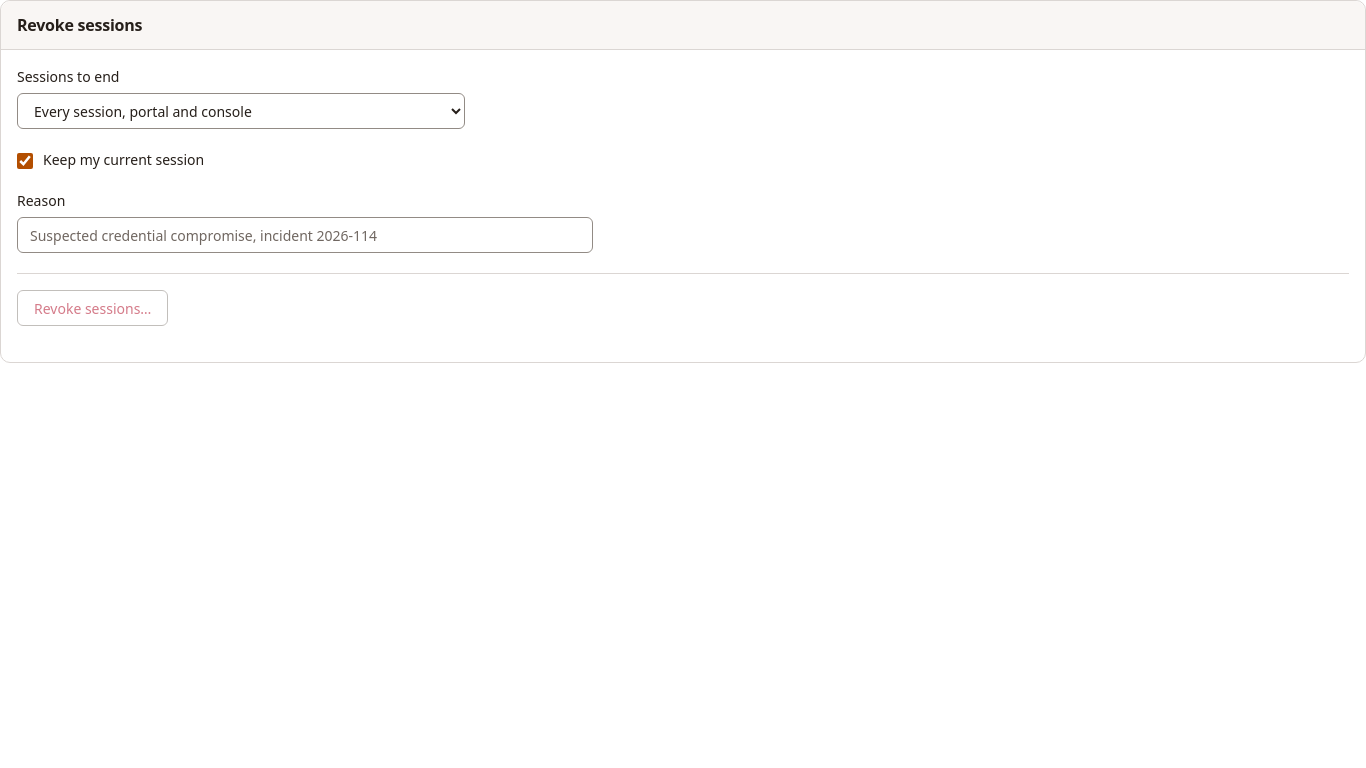
Scenario: SettingsSessionsTab › asks once, says what it will do, and only the second press revokes
This screenshot has width=1366, height=768.
Expected: the button "Revoke sessions…" is disabled, [17,290,168,326]
Type "Suspected credential compromise" into the field labelled "Reason". click: x=305, y=235
box: [17,217,593,253]
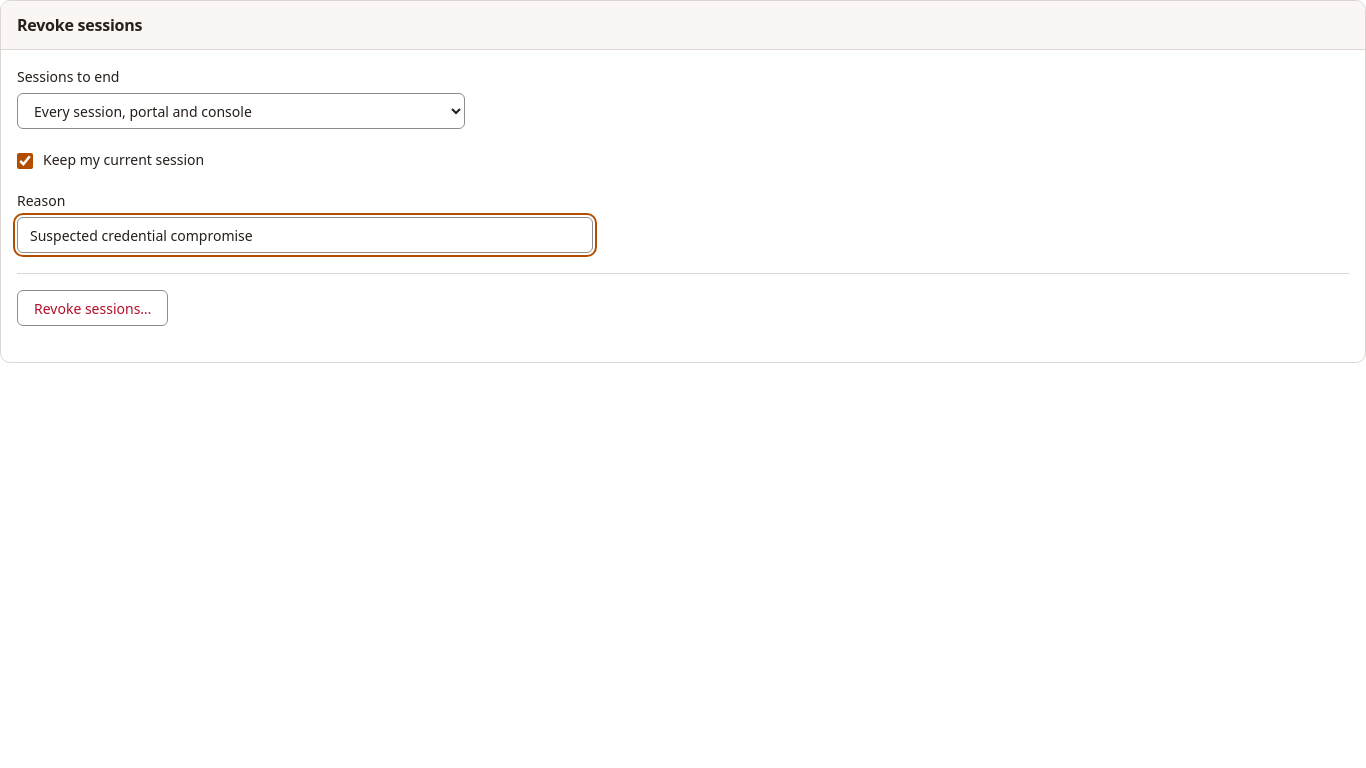
Click the button "Revoke sessions…". click: x=93, y=308
box: [17,290,168,326]
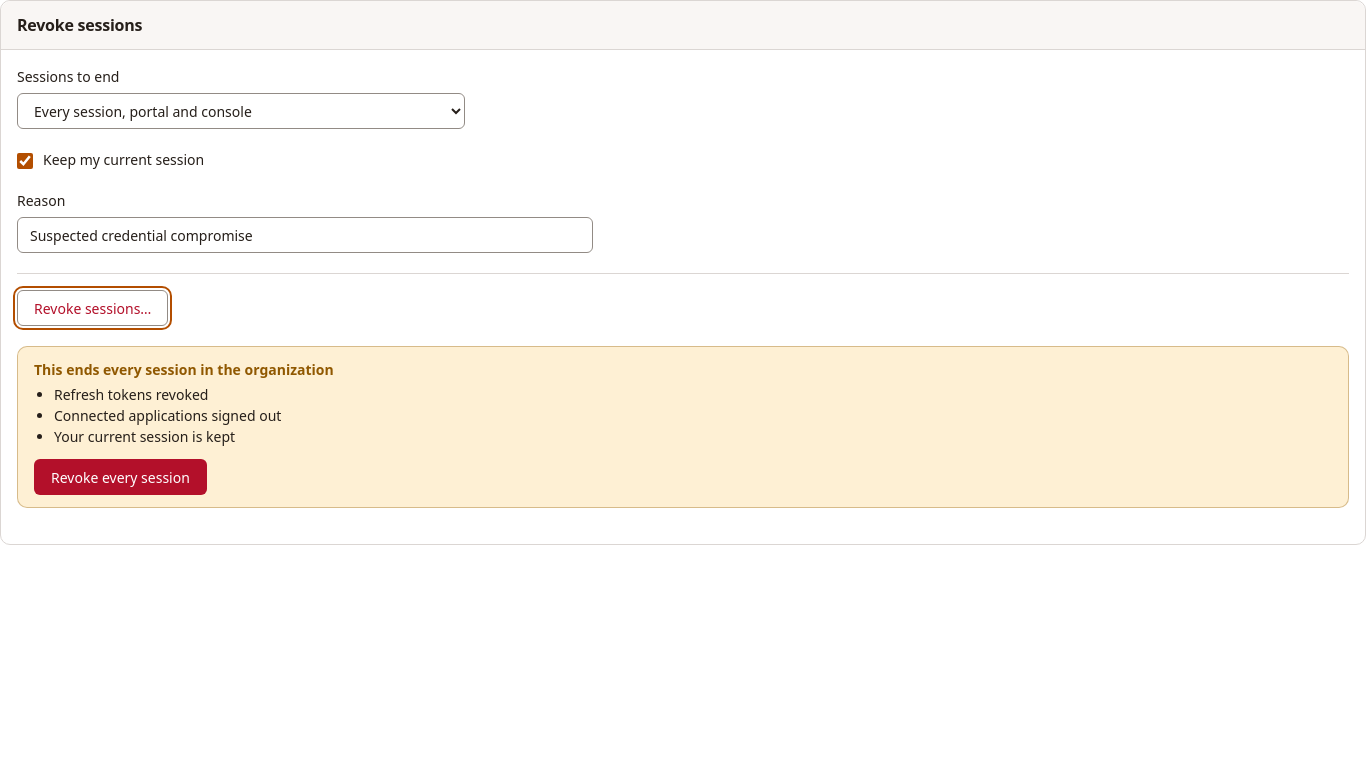
Expected: the text "This ends every session in the organization" is shown, [34,360,334,379]
Expected: the list item "Your current session is kept" is shown, [54,427,235,446]
Click the button "Revoke every session". click: x=120, y=477
box: [34,459,207,495]
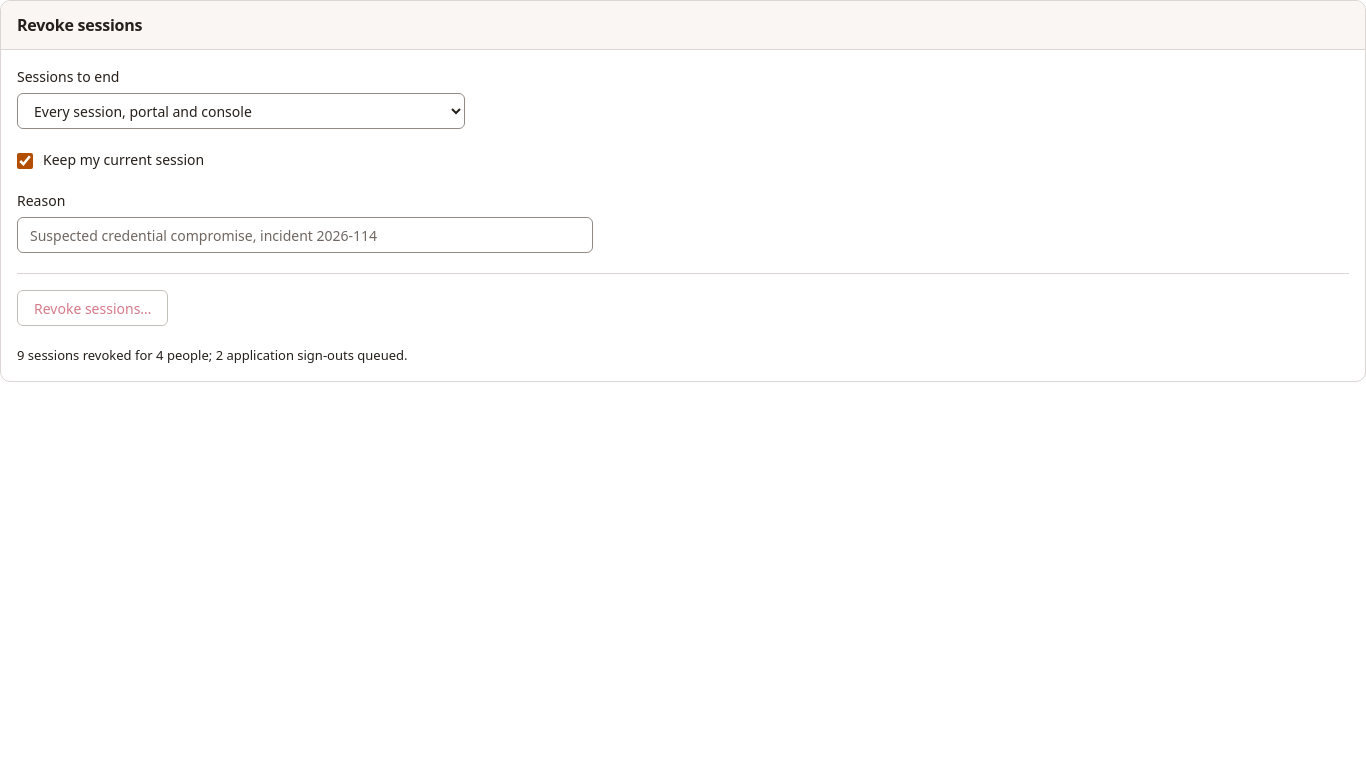
Expected: the message reads "9 sessions revoked for 4 people; 2 application sign-outs queued.", [17,346,408,364]
